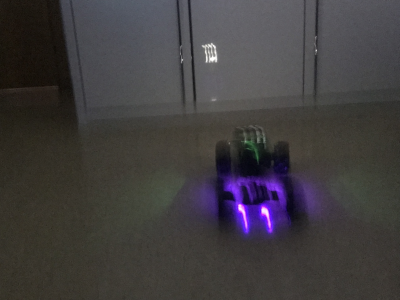remote control car: (206, 119, 307, 233)
